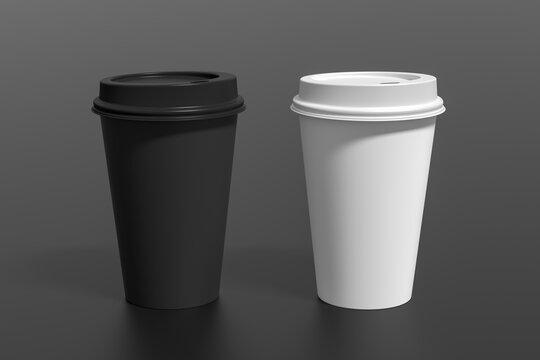cup-disposable: (288, 63, 447, 313), (89, 64, 248, 312)
